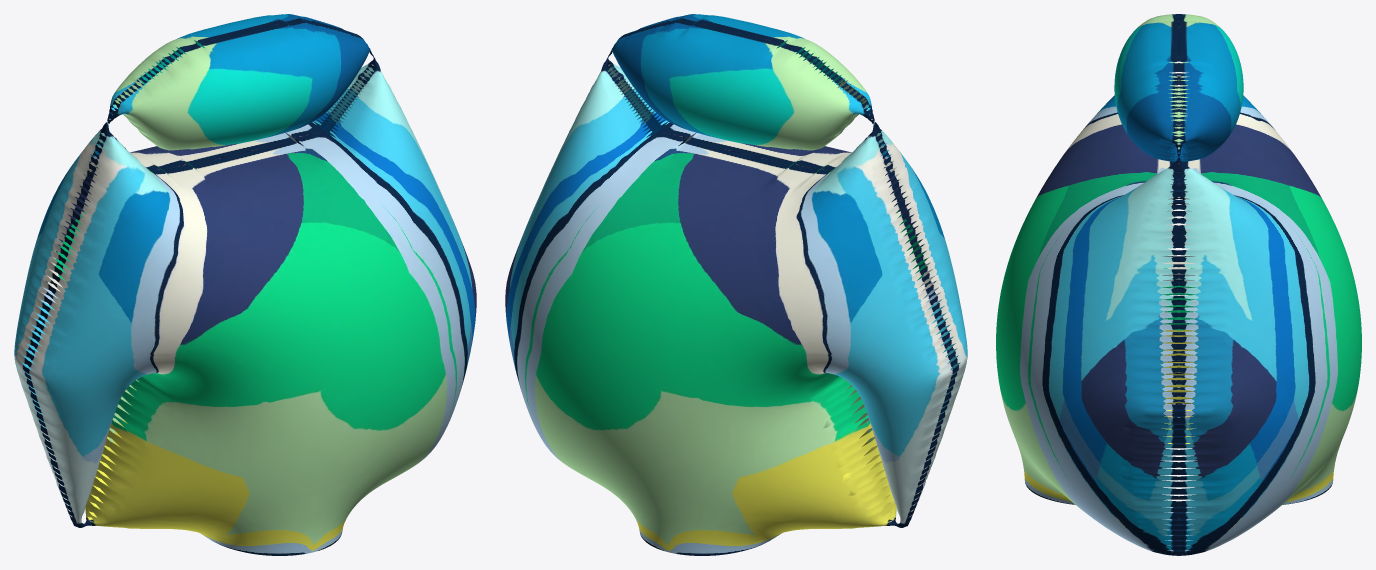
File: green_chamber.glb
3 renders of one model, left to right at view 1: azimuth 30°, elevation 25°; view 2: azimuth 150°, elevation 25°; view 3: azimuth 270°, elevation 25°, orthographic. The views are drawn at different scales.
Parts seen in each view (by area): view 1: green_chamber; view 2: green_chamber; view 3: green_chamber.
Boxes of the visible parts, x1,y1,x2,y2 form: green_chamber: [14, 14, 476, 555]; green_chamber: [505, 14, 967, 555]; green_chamber: [996, 14, 1361, 555].
Bounding box in the file's own units: 0.9879 × 1.01 × 0.7535.
Materials: 1 (1 with a texture image).
